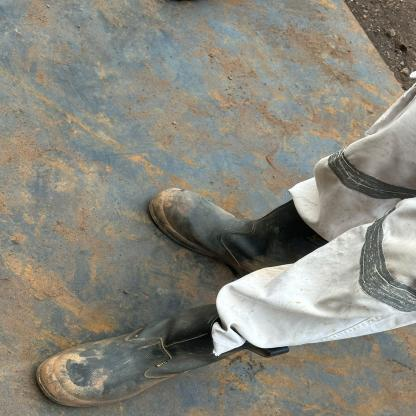bota: (37, 298, 250, 408), (146, 176, 318, 272)
